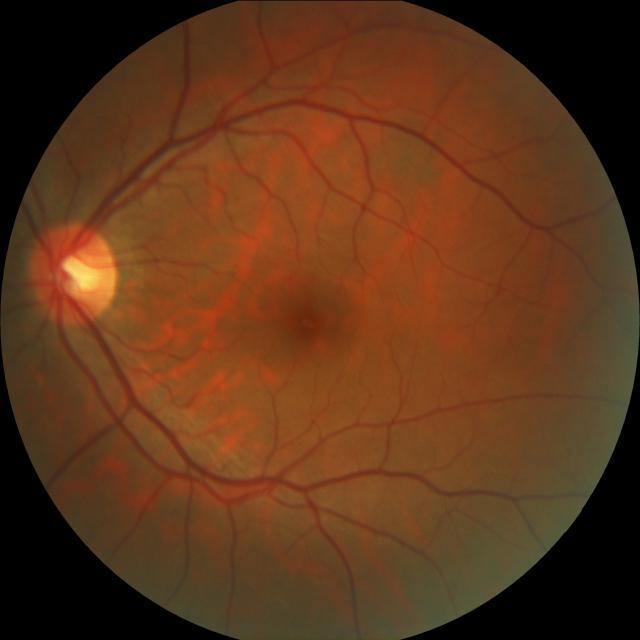OC: (51, 250, 97, 298)
OD: (28, 219, 116, 325)
